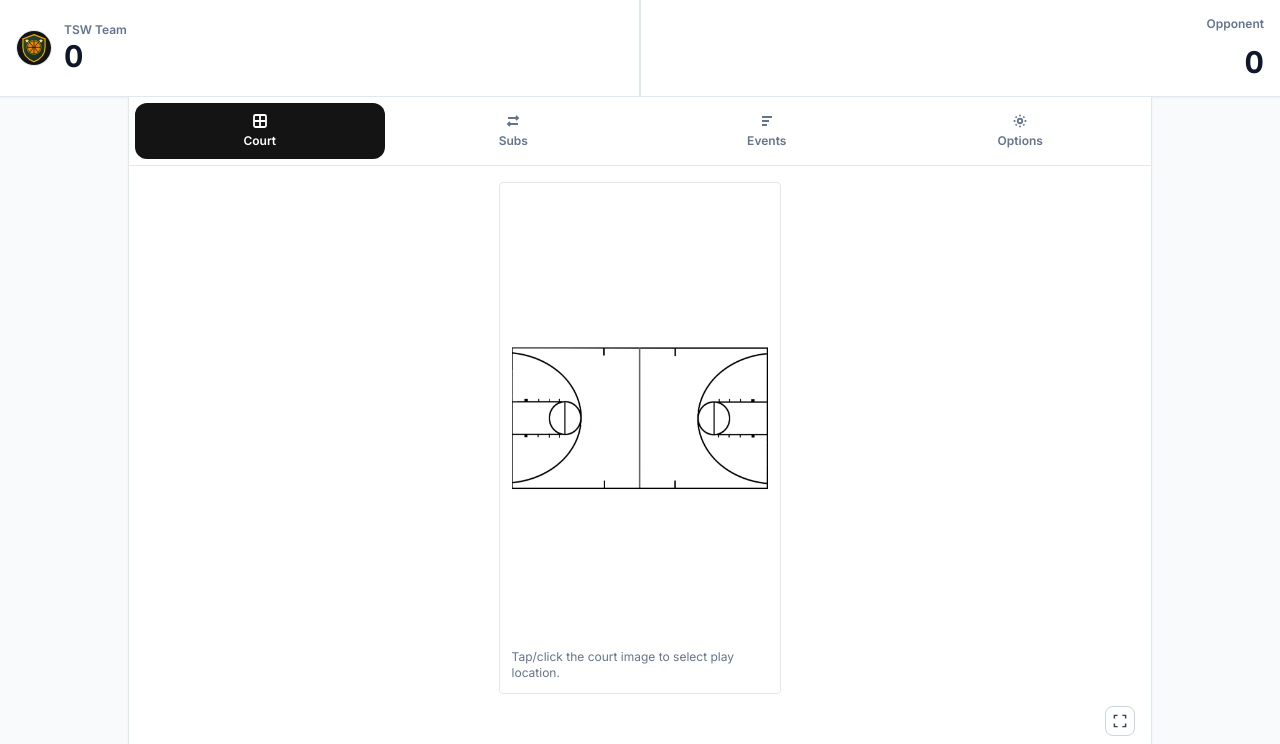
it: GameTrackPage › retains the court tap when microphone permission fails before recognition starts
Step 1. Click the button "Options" → (1020, 131), box [896, 103, 1145, 159]
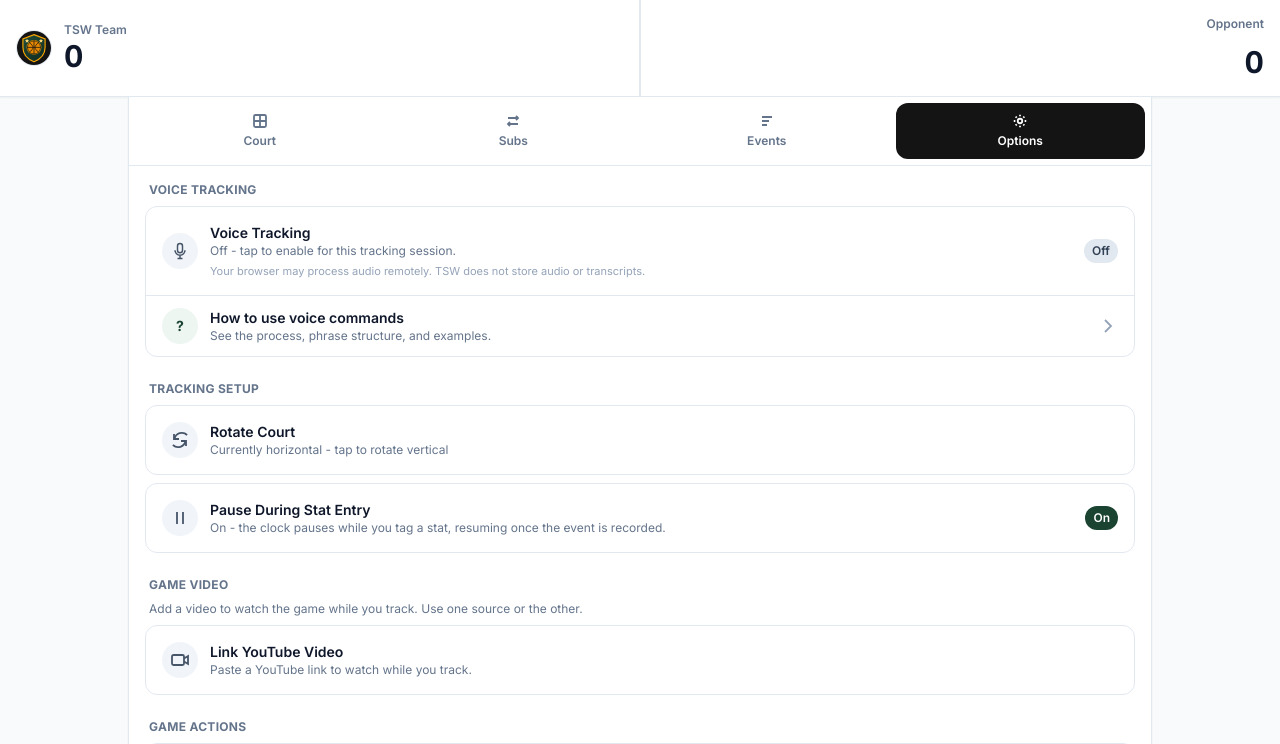
Step 2. Click the button "Voice Tracking" → (180, 251), box [146, 207, 1134, 295]
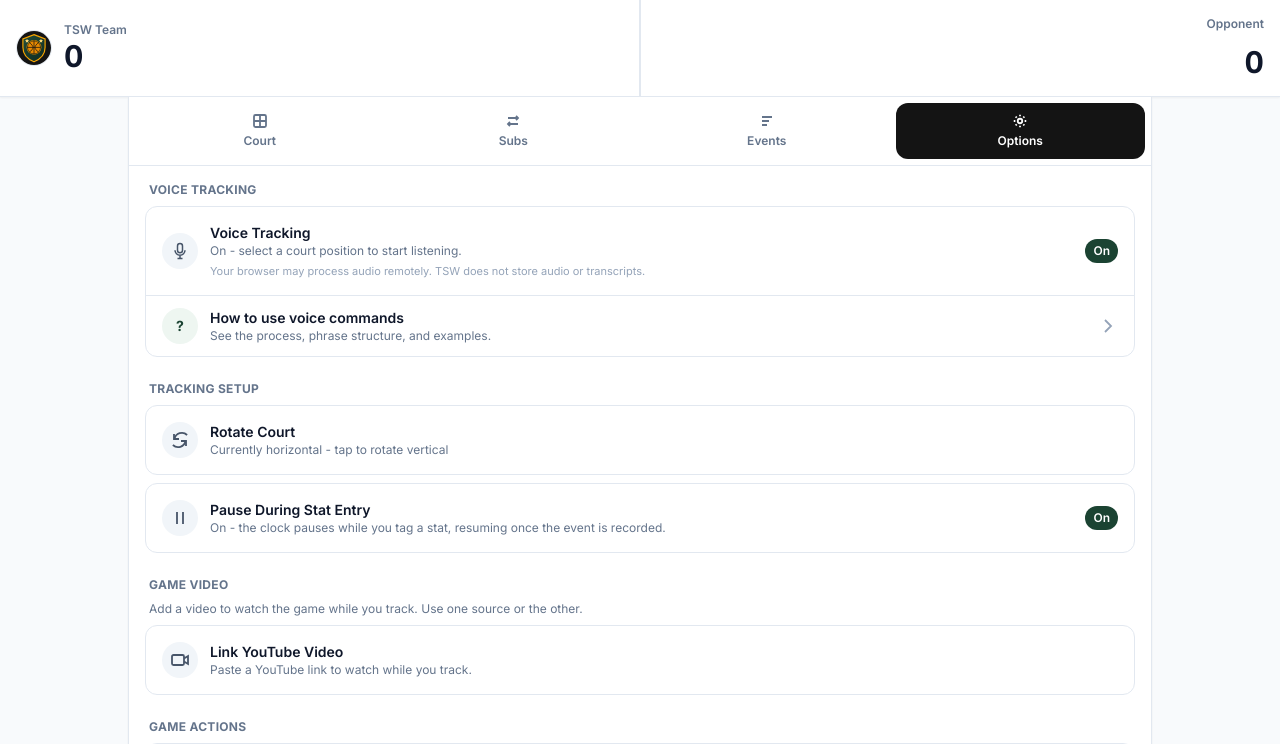
Step 3. Click the button "Court" → (260, 131), box [135, 103, 384, 159]
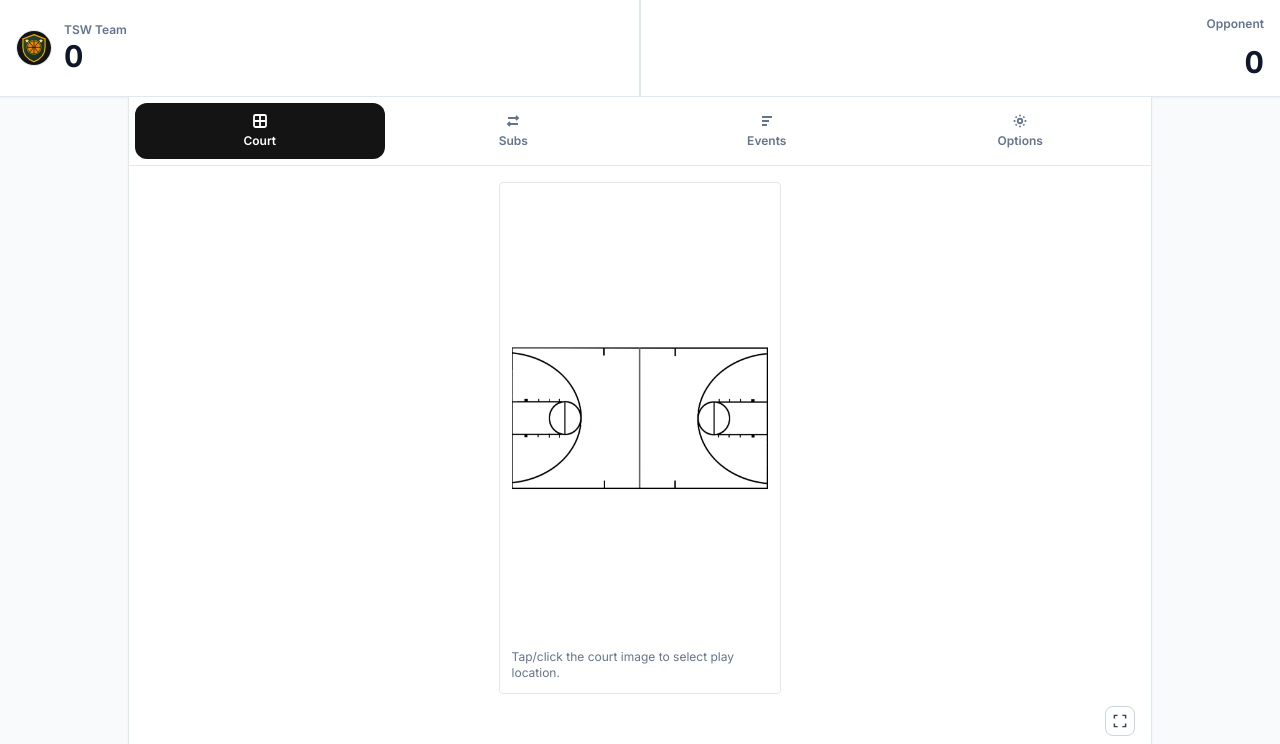
Step 4. Press the mouse on the picture with test id "interactive-court-image" → (640, 418), box [512, 347, 768, 489]
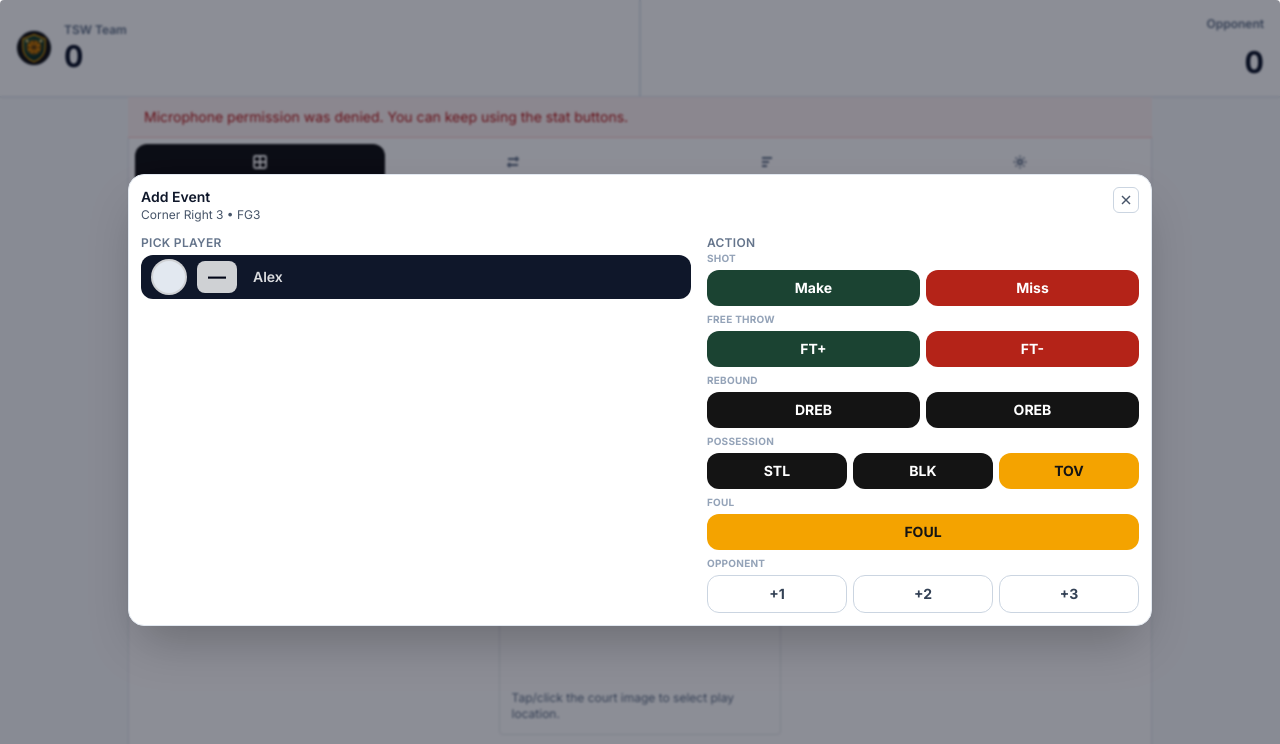
expect the button named "Close event picker" is shown: met, box [1113, 187, 1139, 213]
expect the text "Corner Right 3 • FG3" is shown: met, box [141, 207, 260, 223]
